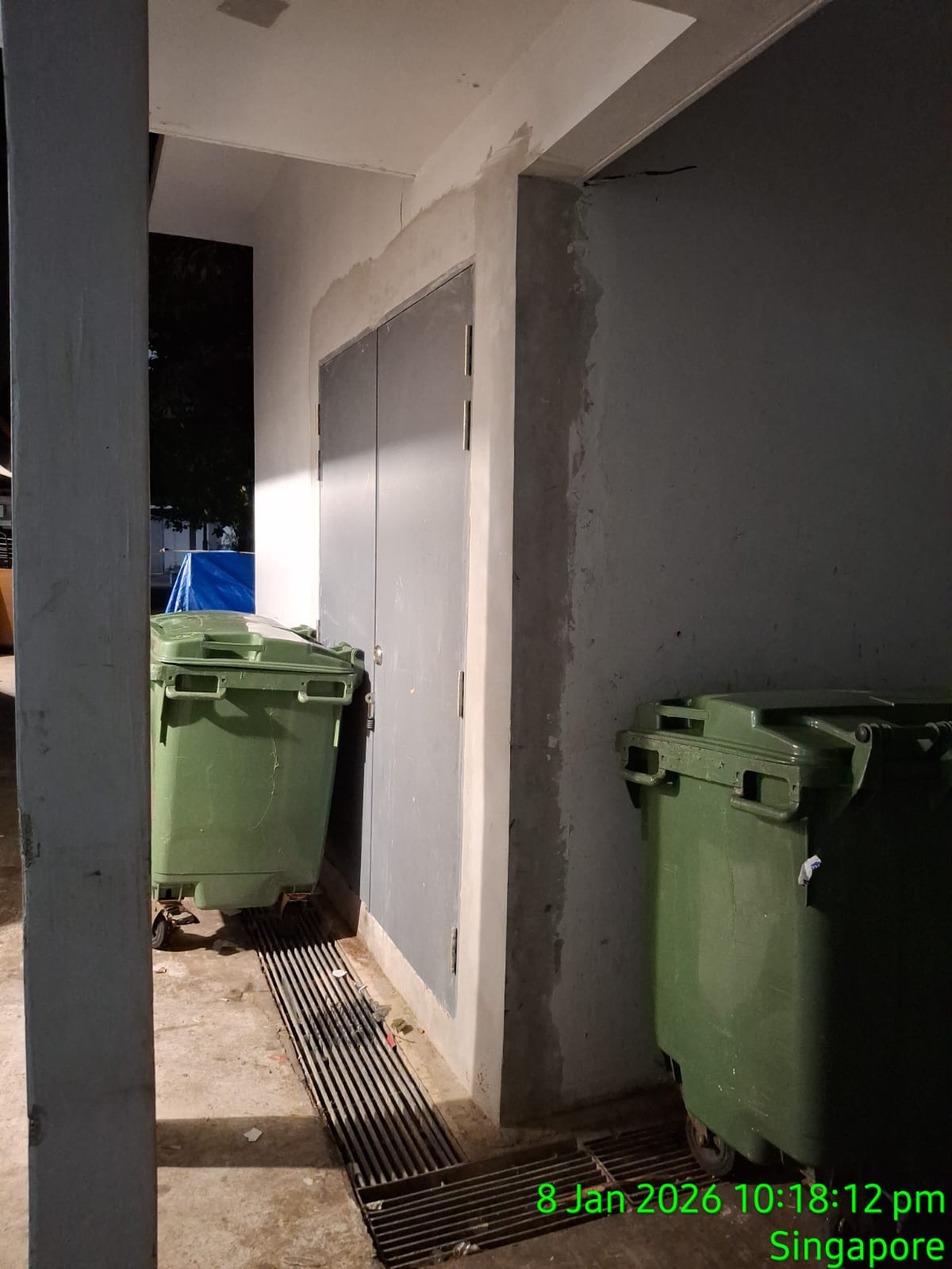bin_empty: (616, 688, 951, 1190), (150, 610, 363, 947)
